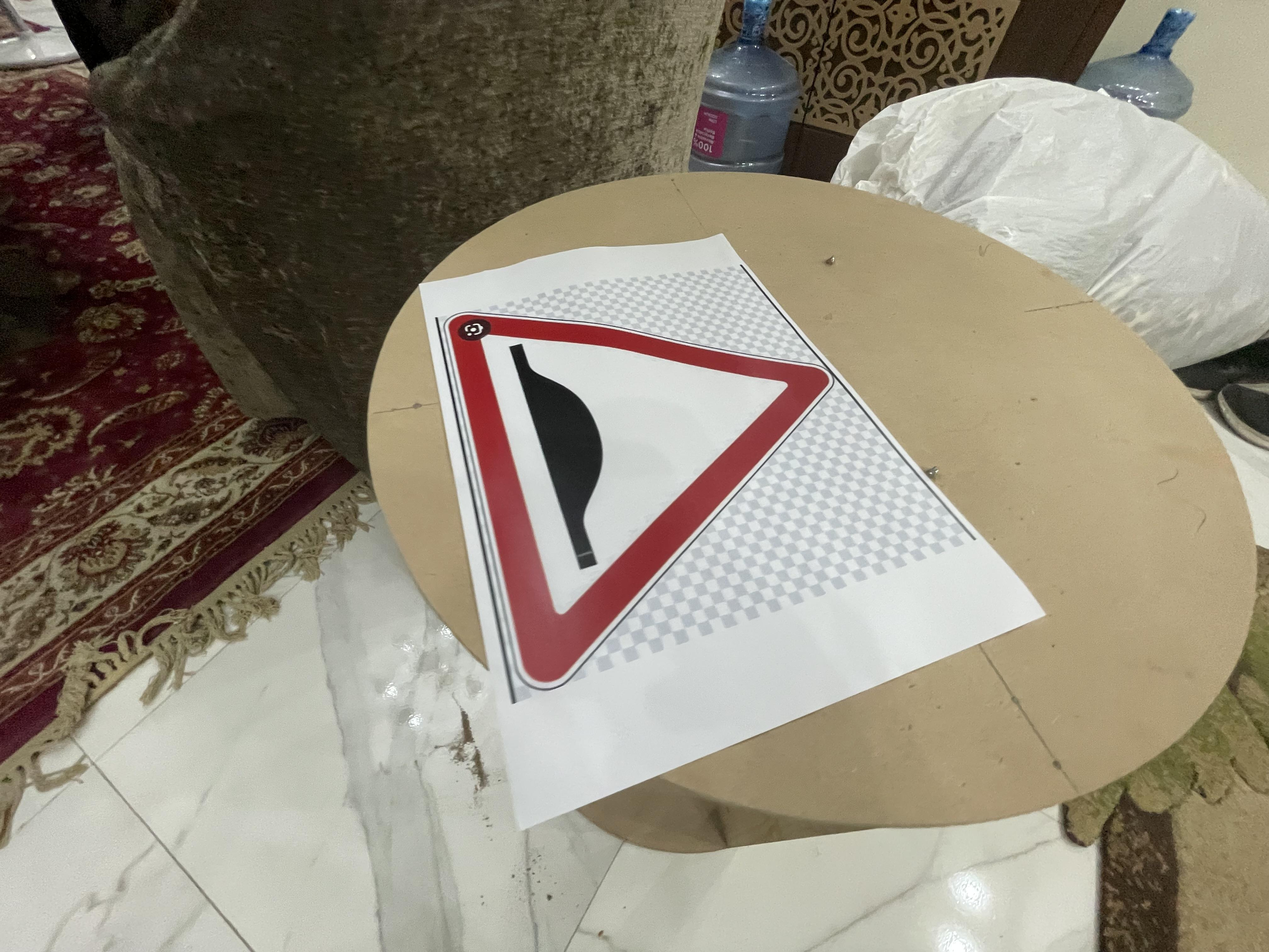Hump: (444, 309, 831, 703)
